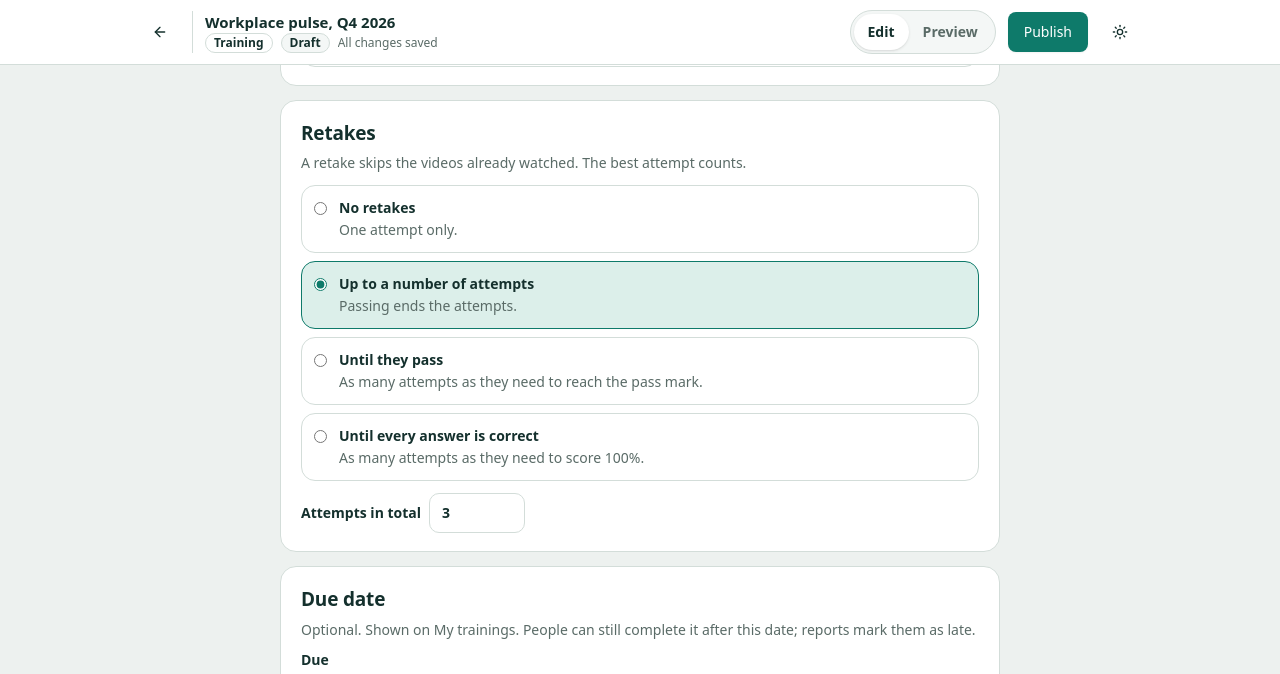
Test case: the Quiz tab › "until they pass" needs a pass mark
(page scrolled)
Expected: the button "Publish" is shown, [1008,12,1088,52]
Click the radio button labelled "Until they pass" at (320, 360), box [314,354,327,367]
(page scrolled)
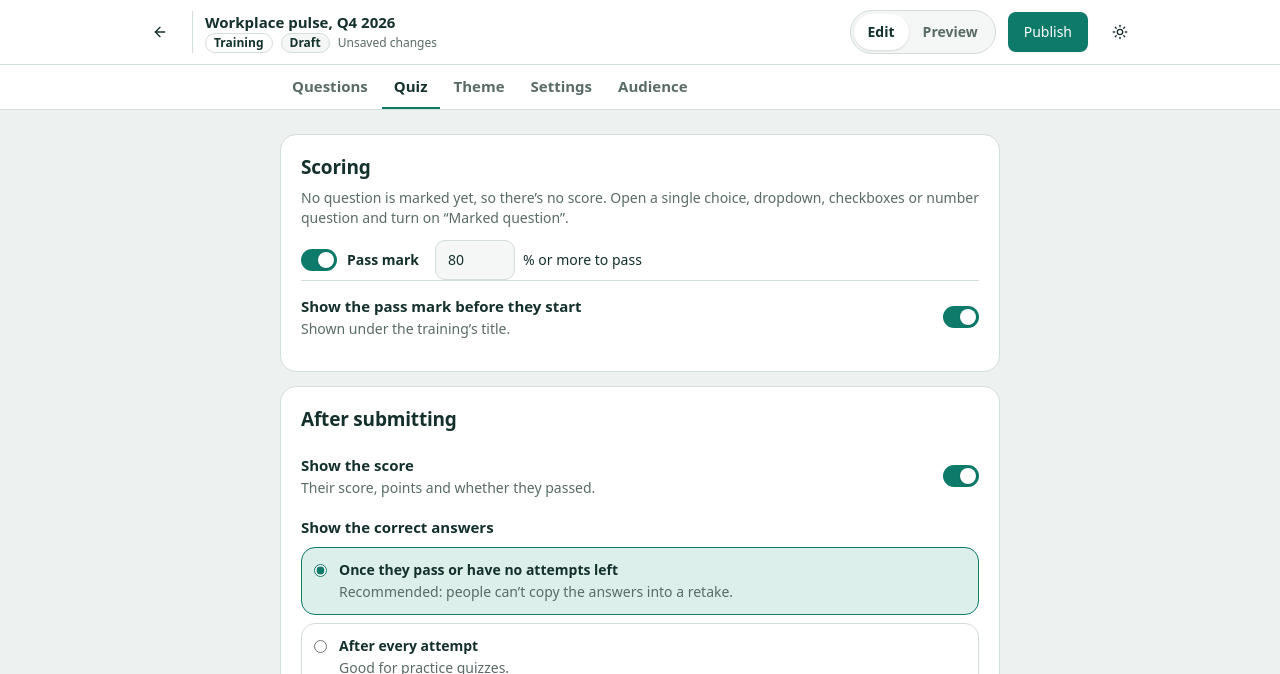
Click the 1st switch labelled "Pass mark" at (360, 260), box [301,248,419,270]
(page scrolled)
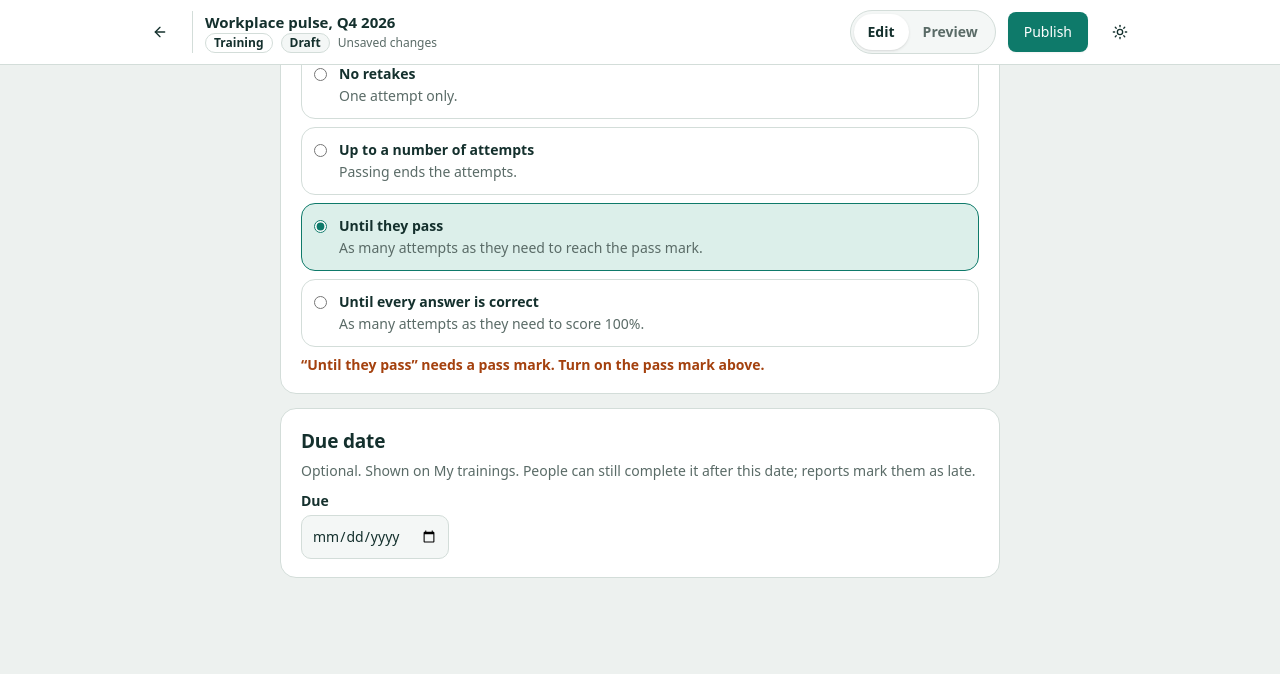
Expected: the field labelled "Pass mark in percent" is not shown
Expected: the message "“Until they pass” needs a pass mark. Turn on the pass mark above." is shown, [301,354,764,374]
